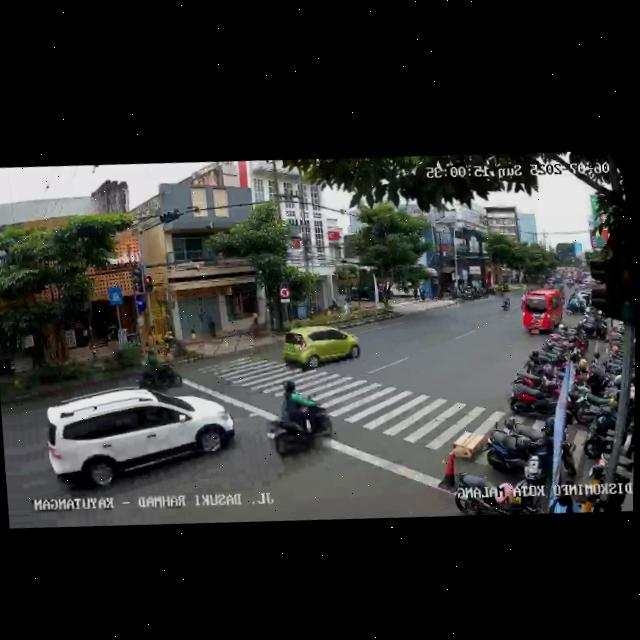car: (42, 372, 240, 504), (282, 320, 363, 378), (520, 286, 565, 337)
motorcycle: (260, 374, 338, 467), (136, 344, 184, 392), (499, 289, 512, 313)
